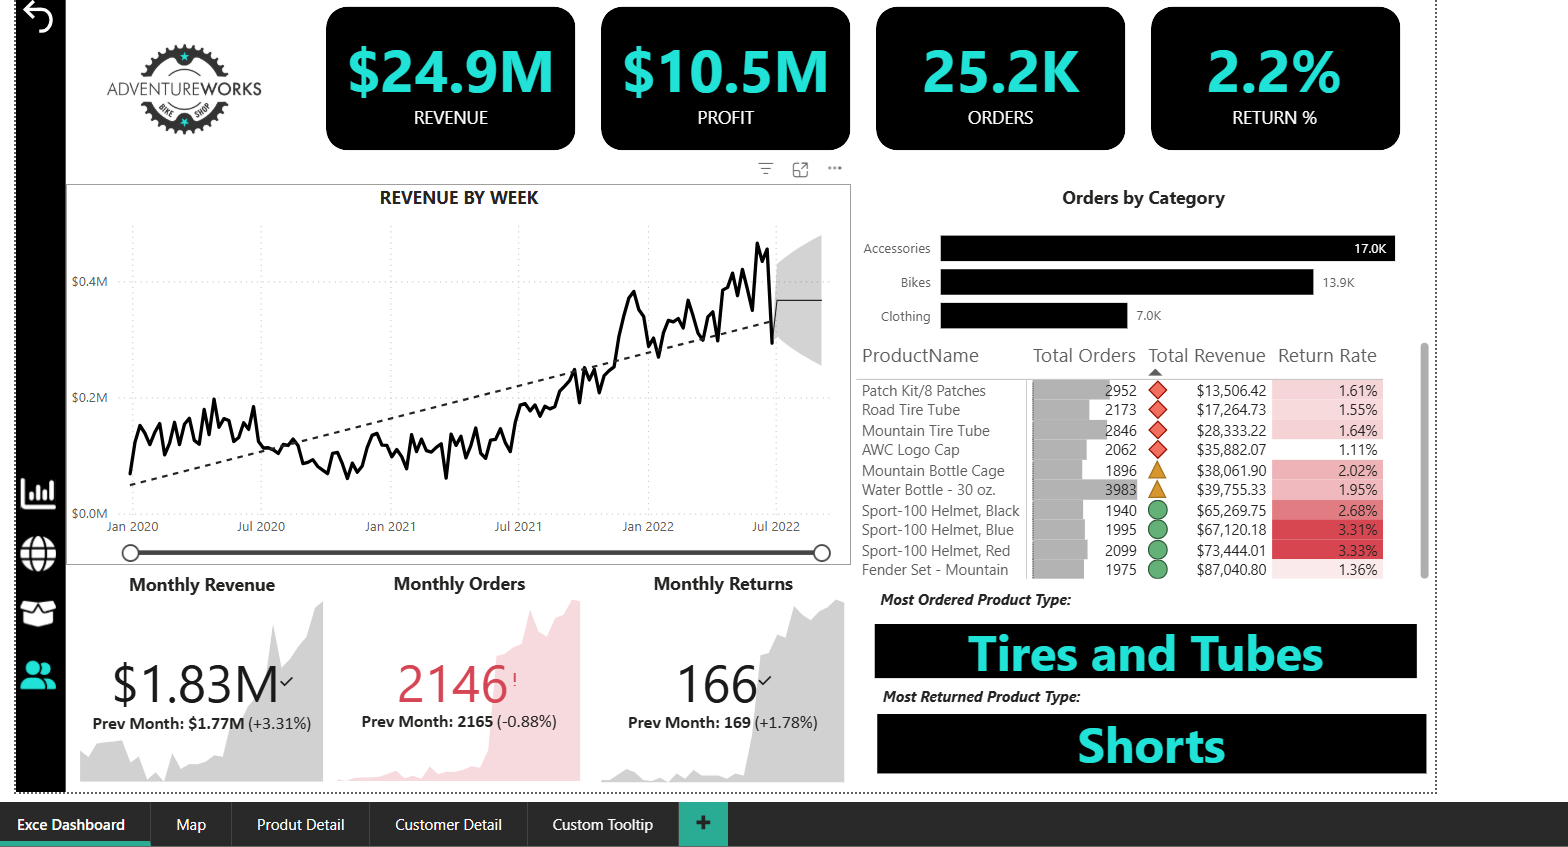

The dashboard page shown, as its layout file describes it:
{"tool":"powerbi","page":{"name":"Exce Dashboard","canvas":[1280,720],"ordinal":0},"visuals":[{"type":"shape","box":[0,0,45,720],"z":0},{"type":"shape","box":[1022.9,11.5,225.1,129.8],"z":1000},{"type":"shape","box":[775.2,11.5,225.1,129.8],"z":2000},{"type":"shape","box":[527.6,11.5,225.1,129.8],"z":3000},{"type":"shape","box":[279.9,11.5,225.1,129.8],"z":4000},{"type":"image","box":[62,0,180.3,171.7],"z":5000},{"type":"card","fields":{"Values":["Measure Table.Total Revenue by sumx"]},"box":[291.4,5.8,200.5,141.4],"z":6000},{"type":"card","fields":{"Values":["Measure Table.Return Rate"]},"box":[1034.5,5.8,200.5,141.4],"z":7000},{"type":"card","fields":{"Values":["Measure Table.Total Orders"]},"box":[787.7,5.8,200.5,141.4],"z":8000},{"type":"card","fields":{"Values":["Measure Table.Total Profit"]},"box":[539.6,5.8,200.5,141.4],"z":9000},{"type":"lineChart","title":"REVENUE BY WEEK","fields":{"Category":["Calendar Lookup.Start of Week"],"Y":["Measure Table.Total Revenue by sumx"]},"box":[44.7,171.7,708.4,343.4],"z":10000},{"type":"clusteredBarChart","fields":{"Category":["Product Categories Lookup.CategoryName"],"Y":["Measure Table.Total Orders"]},"box":[754,171.3,525.2,148.8],"z":11000},{"type":"pivotTable","fields":{"Rows":["Product Lookup.ProductName"],"Values":["Measure Table.Total Orders","Measure Table.Total Revenue by sumx","Measure Table.Return Rate"]},"box":[753.1,308.8,526.6,223.6],"z":12000},{"type":"kpi","title":"Monthly Revenue","fields":{"Indicator":["Measure Table.Total Revenue by sumx"],"Goal":["Measure Table.Previous Month Revenue"],"TrendLine":["Calendar Lookup.Start of Month"]},"box":[53.4,520.8,229.4,194.8],"z":13000},{"type":"kpi","title":"Monthly Orders","fields":{"TrendLine":["Calendar Lookup.Start of Month"],"Indicator":["Measure Table.Total Orders"],"Goal":["Measure Table.Previous Months orders"]},"box":[284.9,520,228.9,195.3],"z":14000},{"type":"kpi","title":"Monthly Returns","fields":{"TrendLine":["Calendar Lookup.Start of Month"],"Indicator":["Measure Table.Total Returns"],"Goal":["Measure Table.Previous Months Returns"]},"box":[523.4,519.1,229,196.3],"z":15000},{"type":"card","fields":{"Values":["Min(Product Subcategories Lookup.SubcategoryName)"]},"box":[774.8,568.4,489.1,49.1],"z":16000},{"type":"card","fields":{"Values":["Min(Product Subcategories Lookup.SubcategoryName)"]},"box":[776.2,649.2,494.9,53.4],"z":17000},{"type":"textbox","box":[776.2,618.9,360.7,30.3],"z":18000},{"type":"textbox","box":[774.8,532.4,419.8,36.1],"z":19000},{"type":"actionButton","box":[0,0,45,40],"z":20000},{"type":"actionButton","box":[0,430,45,40],"z":21000},{"type":"actionButton","box":[0,484.6,45,40],"z":22000},{"type":"actionButton","box":[0,539.2,45,40],"z":23000},{"type":"actionButton","box":[0,593.8,45,40],"z":24000}]}

Visuals, with their boxes on the page's 1280x720 design canvas (x1, y1, x2, y2). These are canvas units, not pixel positions in the 1568x847 screenshot, which may show the page scaled, cropped or inside an application window:
shape: {"left": 0, "top": 0, "right": 45, "bottom": 720}
shape: {"left": 1023, "top": 12, "right": 1248, "bottom": 141}
shape: {"left": 775, "top": 12, "right": 1000, "bottom": 141}
shape: {"left": 528, "top": 12, "right": 753, "bottom": 141}
shape: {"left": 280, "top": 12, "right": 505, "bottom": 141}
image: {"left": 62, "top": 0, "right": 242, "bottom": 172}
card - Measure Table.Total Revenue by sumx: {"left": 291, "top": 6, "right": 492, "bottom": 147}
card - Measure Table.Return Rate: {"left": 1034, "top": 6, "right": 1235, "bottom": 147}
card - Measure Table.Total Orders: {"left": 788, "top": 6, "right": 988, "bottom": 147}
card - Measure Table.Total Profit: {"left": 540, "top": 6, "right": 740, "bottom": 147}
"REVENUE BY WEEK" lineChart: {"left": 45, "top": 172, "right": 753, "bottom": 515}
clusteredBarChart - Product Categories Lookup.CategoryName x Measure Table.Total Orders: {"left": 754, "top": 171, "right": 1279, "bottom": 320}
pivotTable - Product Lookup.ProductName x Measure Table.Total Orders: {"left": 753, "top": 309, "right": 1280, "bottom": 532}
"Monthly Revenue" kpi: {"left": 53, "top": 521, "right": 283, "bottom": 716}
"Monthly Orders" kpi: {"left": 285, "top": 520, "right": 514, "bottom": 715}
"Monthly Returns" kpi: {"left": 523, "top": 519, "right": 752, "bottom": 715}
card - Min(Product Subcategories Lookup.SubcategoryName): {"left": 775, "top": 568, "right": 1264, "bottom": 618}
card - Min(Product Subcategories Lookup.SubcategoryName): {"left": 776, "top": 649, "right": 1271, "bottom": 703}
textbox: {"left": 776, "top": 619, "right": 1137, "bottom": 649}
textbox: {"left": 775, "top": 532, "right": 1195, "bottom": 568}
actionButton: {"left": 0, "top": 0, "right": 45, "bottom": 40}
actionButton: {"left": 0, "top": 430, "right": 45, "bottom": 470}
actionButton: {"left": 0, "top": 485, "right": 45, "bottom": 525}
actionButton: {"left": 0, "top": 539, "right": 45, "bottom": 579}
actionButton: {"left": 0, "top": 594, "right": 45, "bottom": 634}
